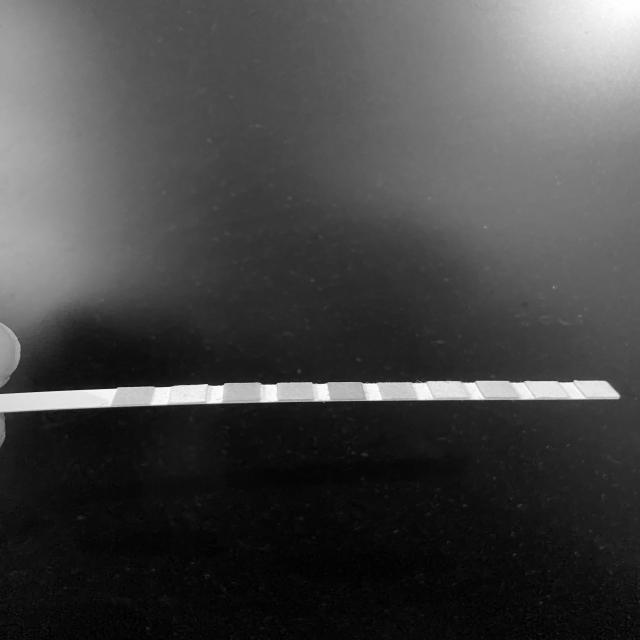Bilirubin: (172, 387, 204, 402)
Blood: (331, 382, 362, 398)
Glucose: (118, 388, 150, 404)
Ketone: (226, 383, 258, 401)
Leukocytes: (589, 381, 606, 397)
Nitrite: (538, 382, 556, 397)
Protein: (436, 382, 459, 397)
SpGravity: (280, 383, 313, 399)
Urobilinogen: (487, 382, 508, 397)
background: (0, 0, 640, 640)
pH: (384, 384, 411, 398)
strip: (1, 380, 621, 412)
